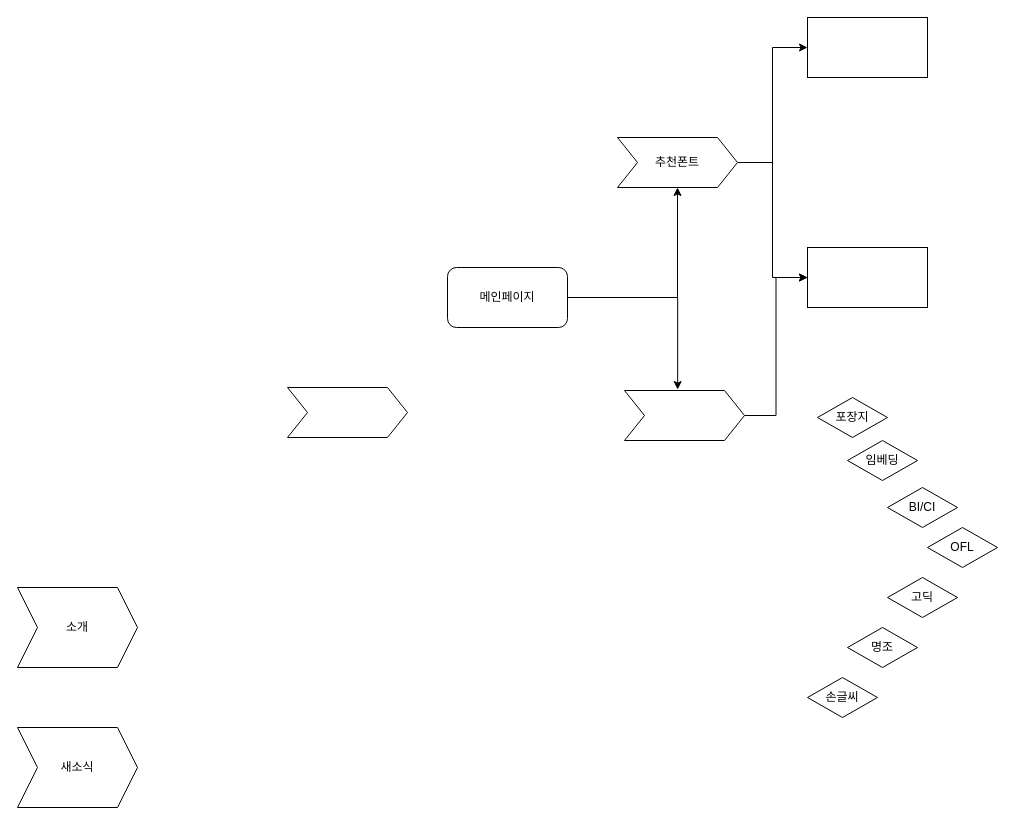
Image size: 1015x825. Some labels were removed from this diagram. Each missing label, with the box of its shape:
로그인: (286, 386, 408, 438)
모든 폰트에 적용: (806, 246, 928, 308)
모든폰트: (624, 390, 744, 440)
추천 폰트들: (806, 16, 928, 78)
